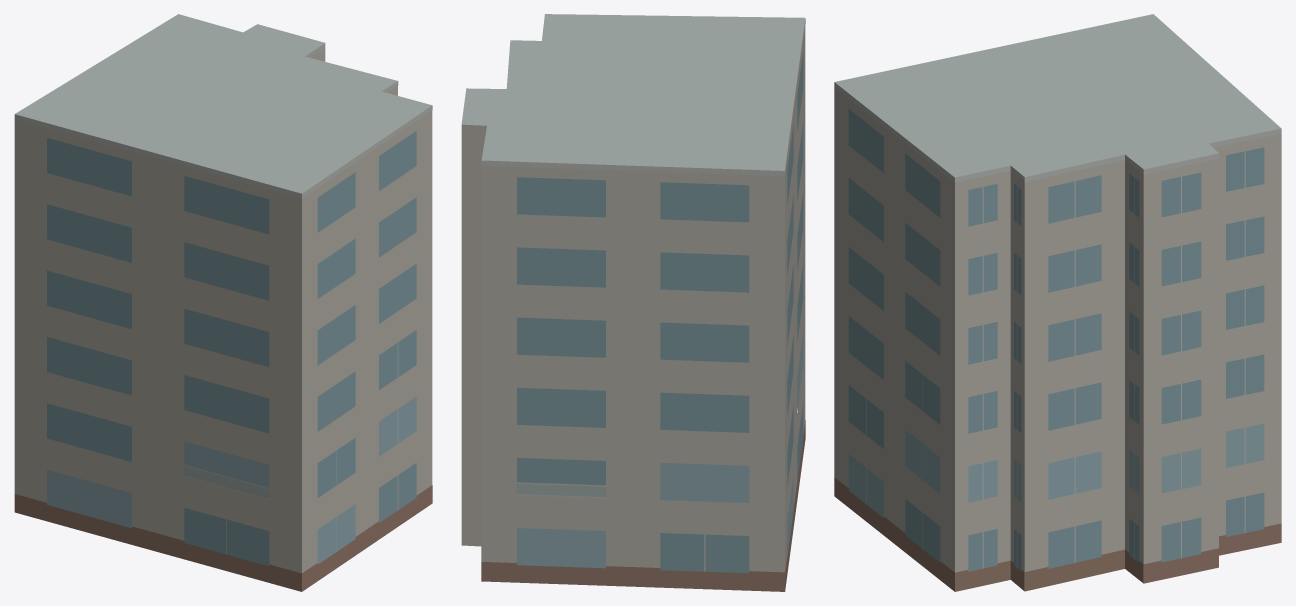
Rendered from survey-upis-32721949.glb.
3 renders of one model, left to right at view 1: azimuth 30°, elevation 25°; view 2: azimuth 150°, elevation 25°; view 3: azimuth 270°, elevation 25°, orthographic. The views are drawn at different scales.
Parts seen in each view (by area): view 1: survey-upis-32721949.tmp; view 2: survey-upis-32721949.tmp; view 3: survey-upis-32721949.tmp.
Part boxes in pixels (x1,y1,x2,y2): survey-upis-32721949.tmp: (14, 14, 432, 591); survey-upis-32721949.tmp: (461, 14, 805, 591); survey-upis-32721949.tmp: (834, 14, 1281, 591).
Bounding box in the file's own units: 16.62 × 19.6 × 19.19.
